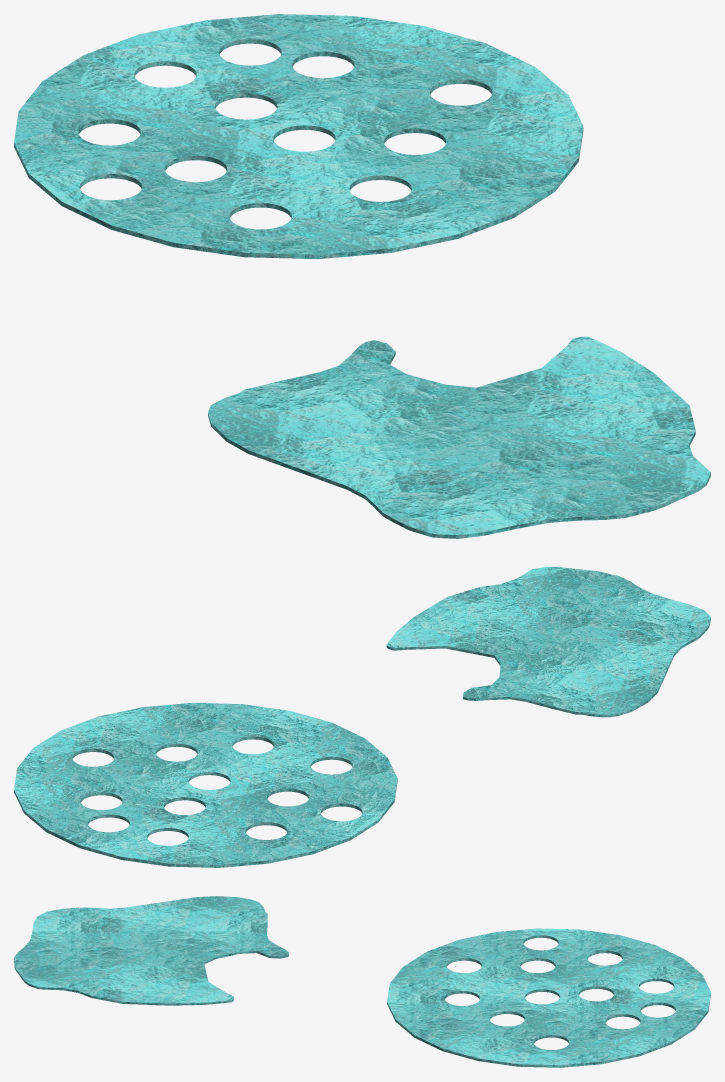
The model's file is HieloConCaida.dae.
3 renders of one model, top to bottom at view 1: azimuth 30°, elevation 25°; view 2: azimuth 150°, elevation 25°; view 3: azimuth 270°, elevation 25°, orthographic. The views are drawn at different scales.
Parts seen in each view (by area): view 1: group_0, group_1; view 2: group_0, group_1; view 3: group_0, group_1.
Part boxes in pixels (box(x1,y1,x2,y2)): group_0: box(14, 14, 583, 259); group_1: box(208, 336, 710, 538); group_0: box(14, 702, 397, 867); group_1: box(386, 567, 710, 717); group_0: box(387, 928, 710, 1067); group_1: box(14, 896, 288, 1005).
Size of the model in its own units: 2514 by 4366 by 17.72.
1 material, 1 textured.
